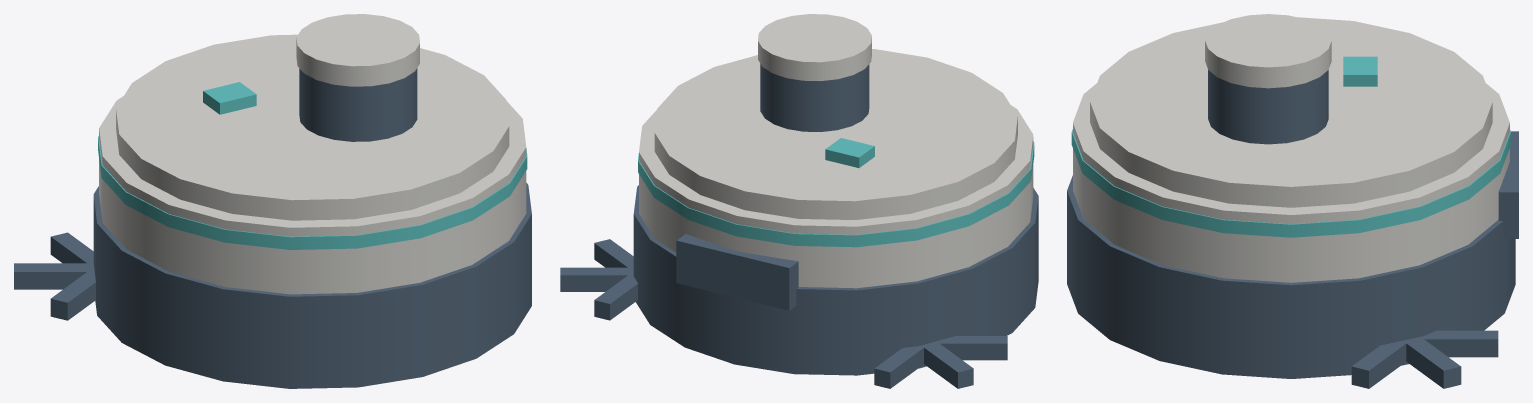
Rendered from vacuum.glb.
The picture shows the model from 3 angles, left to right: view 1: azimuth 30°, elevation 25°; view 2: azimuth 150°, elevation 25°; view 3: azimuth 270°, elevation 25°; orthographic projection. The views are drawn at different scales.
Size of the model in its own units: 0.9146 by 0.5 by 0.7855.
